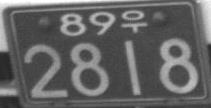1: (116, 40, 148, 95)
2: (23, 43, 69, 98)
8: (158, 37, 199, 94), (70, 41, 109, 96), (59, 12, 86, 37)
9: (88, 11, 116, 35)
우: (121, 9, 147, 33)
